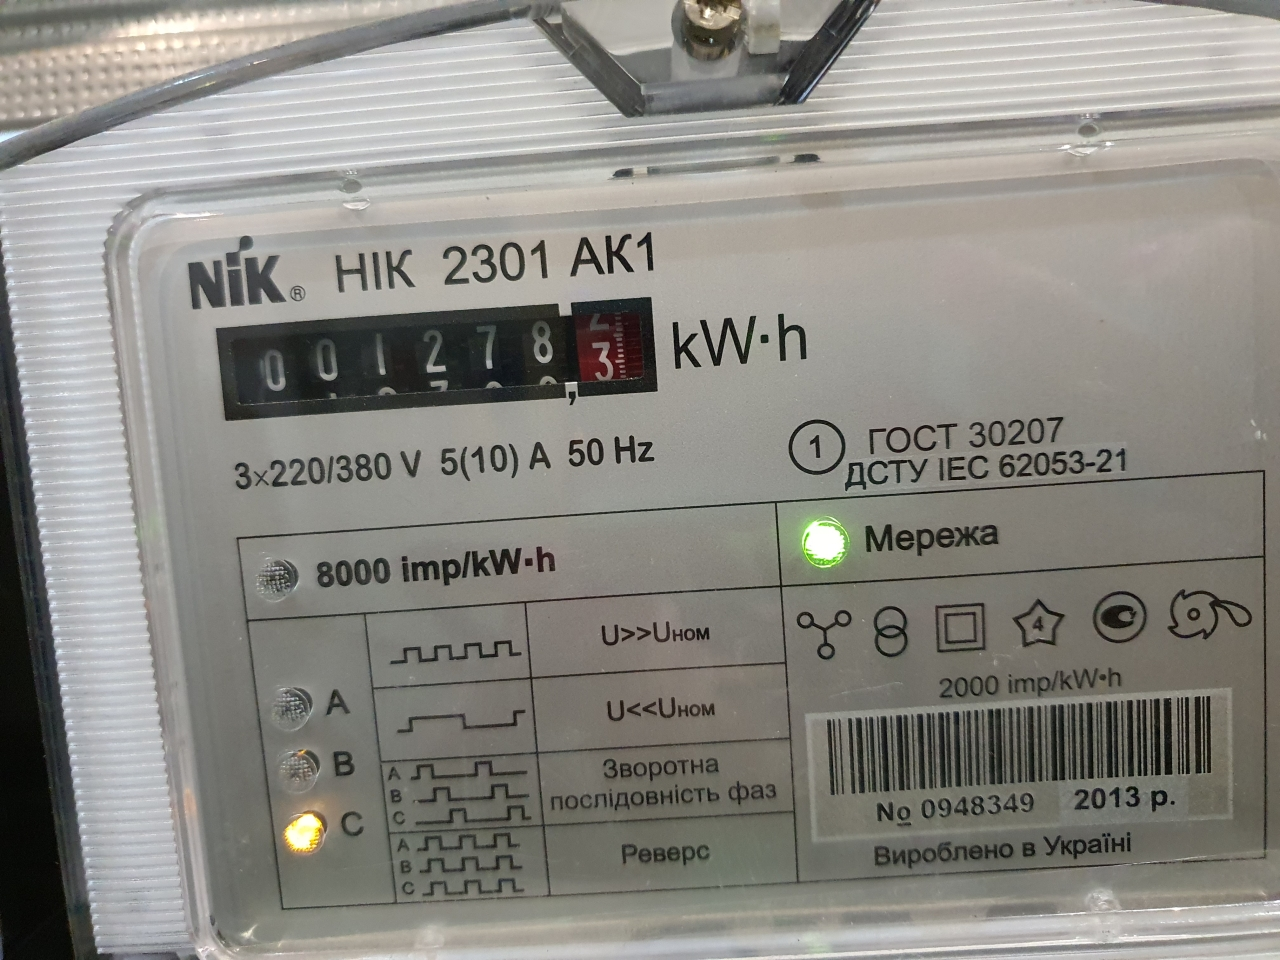0: (261, 346, 290, 393), (314, 336, 339, 383)
1: (373, 330, 390, 378)
2: (421, 327, 447, 374), (586, 312, 612, 333)
3: (590, 337, 616, 381)
7: (476, 322, 498, 371)
8: (530, 319, 555, 366)
screen: (197, 287, 674, 430)
